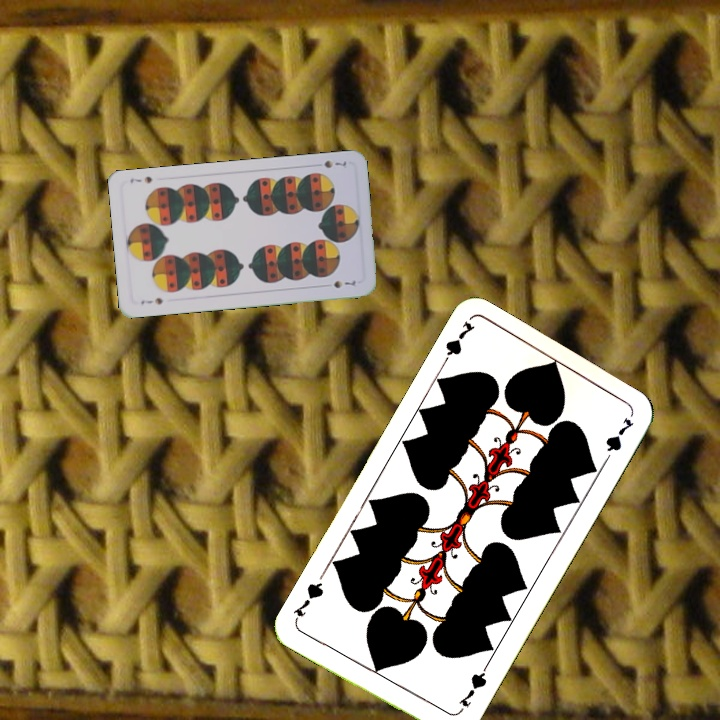G7: (436, 317, 478, 372), (453, 663, 490, 717)
S7: (320, 156, 349, 171), (137, 294, 165, 307)
